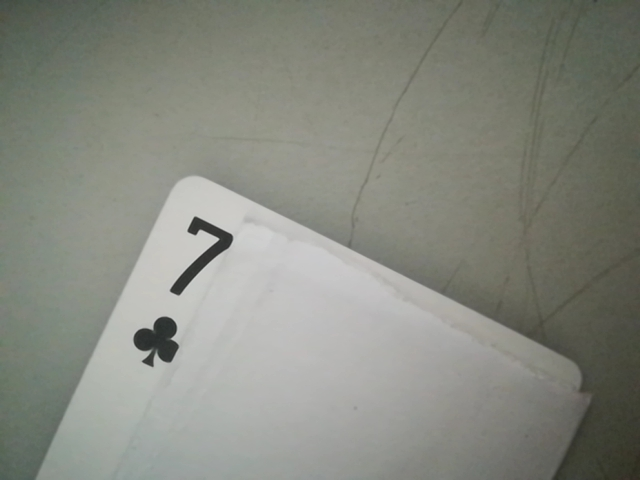mh 7: (126, 208, 253, 367)
